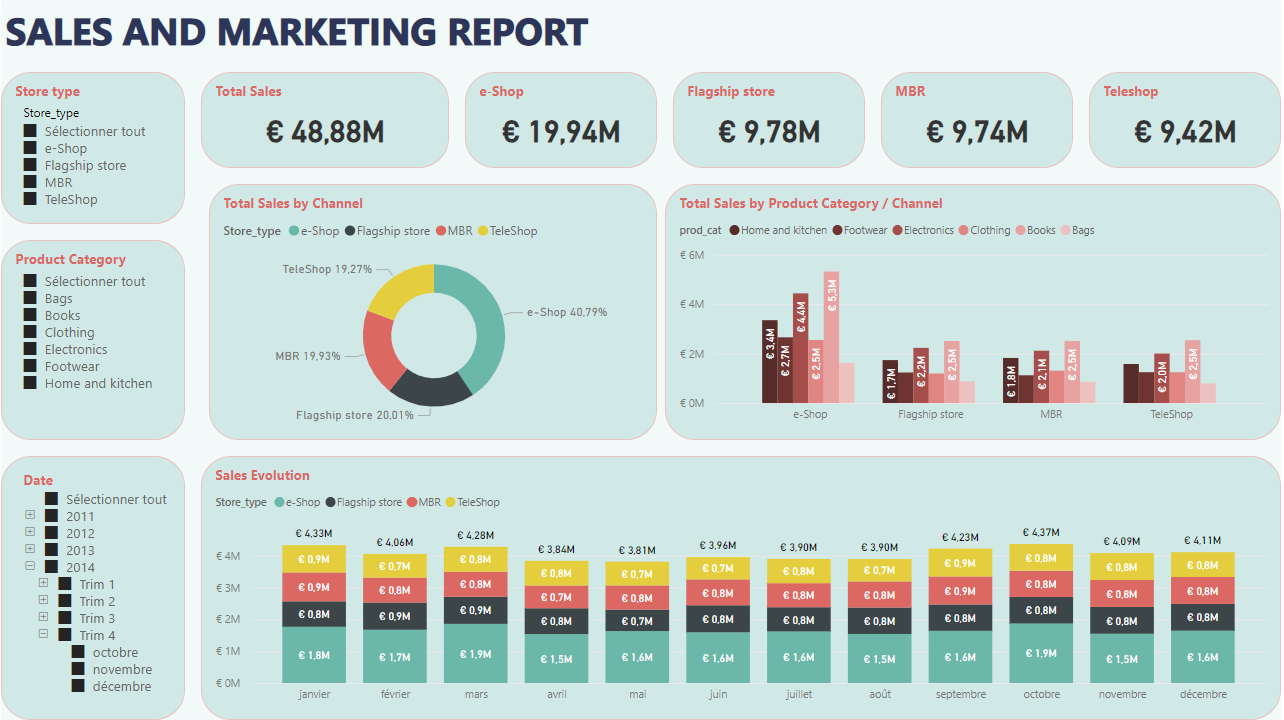

What the dashboard file says about the page in this screenshot:
{"tool":"powerbi","page":{"name":"Page 1/2","canvas":[1280,720],"ordinal":0},"visuals":[{"type":"card","title":"Total Sales ","fields":{"Values":["Sum(df_customer_analysis.total_amt)"]},"box":[200,72,248,96],"z":0},{"type":"slicer","fields":{"Values":["df_customer_analysis.tran_date.Variation.Hiérarchie de dates.Année","df_customer_analysis.tran_date.Variation.Hiérarchie de dates.Trimestre","df_customer_analysis.tran_date.Variation.Hiérarchie de dates.Mois"]},"box":[0,456,184,264],"z":1000},{"type":"card","title":"e-Shop","fields":{"Values":["Sum(df_customer_analysis.total_amt)"]},"box":[464,72,192,96],"z":2000},{"type":"card","title":"Flagship store","fields":{"Values":["Sum(df_customer_analysis.total_amt)"]},"box":[672,72,192,96],"z":3000},{"type":"card","title":"MBR","fields":{"Values":["Sum(df_customer_analysis.total_amt)"]},"box":[880,72,192,96],"z":4000},{"type":"card","title":"Teleshop","fields":{"Values":["Sum(df_customer_analysis.total_amt)"]},"box":[1088,72,192,96],"z":5000},{"type":"textbox","box":[0,0,672,64],"z":6000},{"type":"donutChart","title":"Total Sales by Channel","fields":{"Category":["df_customer_analysis.Store_type"],"Y":["Sum(df_customer_analysis.total_amt)"]},"box":[208,184,448,256],"z":7000},{"type":"columnChart","title":"Sales Evolution","fields":{"Category":["df_customer_analysis.tran_date.Variation.Hiérarchie de dates.Année","df_customer_analysis.tran_date.Variation.Hiérarchie de dates.Trimestre","df_customer_analysis.tran_date.Variation.Hiérarchie de dates.Mois","df_customer_analysis.tran_date.Variation.Hiérarchie de dates.Jour"],"Y":["Sum(df_customer_analysis.total_amt)"],"Series":["df_customer_analysis.Store_type"]},"box":[200,456,1080,264],"z":8000},{"type":"clusteredColumnChart","title":"Total Sales by Product Category / Channel","fields":{"Category":["df_customer_analysis.Store_type"],"Y":["Sum(df_customer_analysis.total_amt)"],"Series":["df_customer_analysis.prod_cat"]},"box":[664,184,616,256],"z":9000},{"type":"slicer","title":"Store type","fields":{"Values":["df_customer_analysis.Store_type"]},"box":[0,72,184,152],"z":10000},{"type":"slicer","title":"Product Category","fields":{"Values":["df_customer_analysis.prod_cat"]},"box":[0,240,184,200],"z":11000}]}

Visuals, with their boxes in screenshot pixels (x1, y1, x2, y2), scaled from the page's 1280x720 canvas onto the 1284x720 screenshot:
"Total Sales " card: bbox=[201, 72, 449, 168]
slicer - df_customer_analysis.tran_date.Variation.Hiérarchie de dates.Année x df_customer_analysis.tran_date.Variation.Hiérarchie de dates.Trimestre: bbox=[0, 456, 185, 719]
"e-Shop" card: bbox=[465, 72, 658, 168]
"Flagship store" card: bbox=[674, 72, 867, 168]
"MBR" card: bbox=[883, 72, 1075, 168]
"Teleshop" card: bbox=[1091, 72, 1283, 168]
textbox: bbox=[0, 0, 674, 64]
"Total Sales by Channel" donutChart: bbox=[209, 184, 658, 440]
"Sales Evolution" columnChart: bbox=[201, 456, 1283, 719]
"Total Sales by Product Category / Channel" clusteredColumnChart: bbox=[666, 184, 1283, 440]
"Store type" slicer: bbox=[0, 72, 185, 224]
"Product Category" slicer: bbox=[0, 240, 185, 440]
